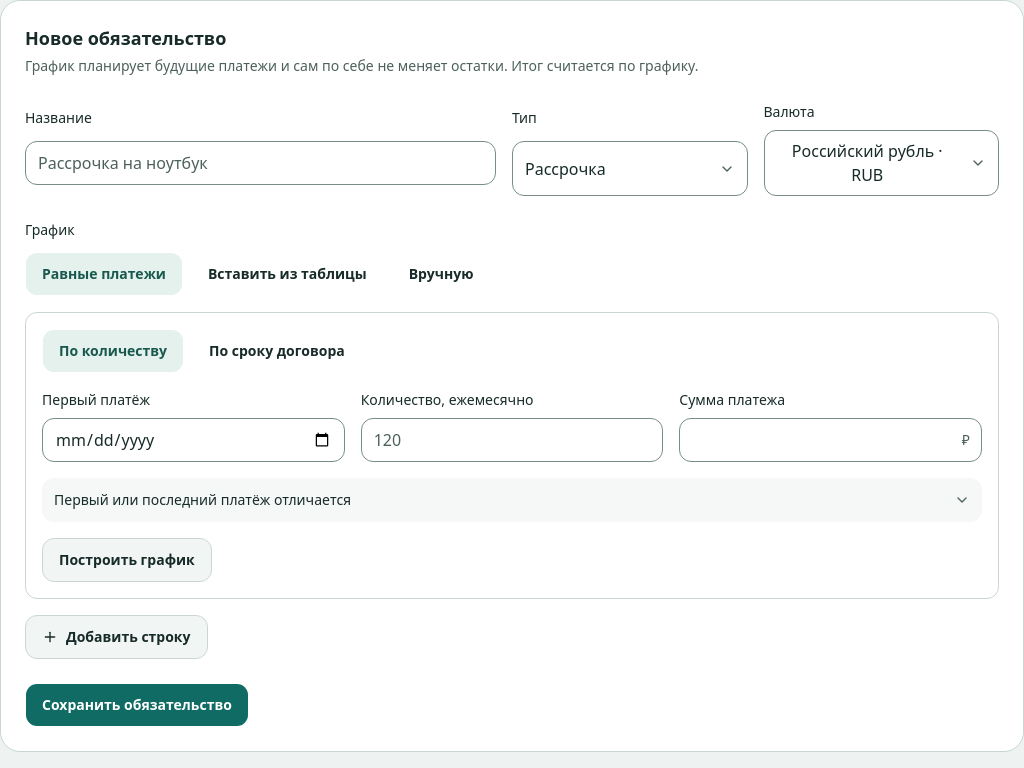
SPEC-0037 obligation with a long schedule › asks for at least one payment
The width and height of the screenshot is (1024, 768).
In the field labelled "Название": (260, 163) [25, 141, 496, 185], type "Рассрочка"
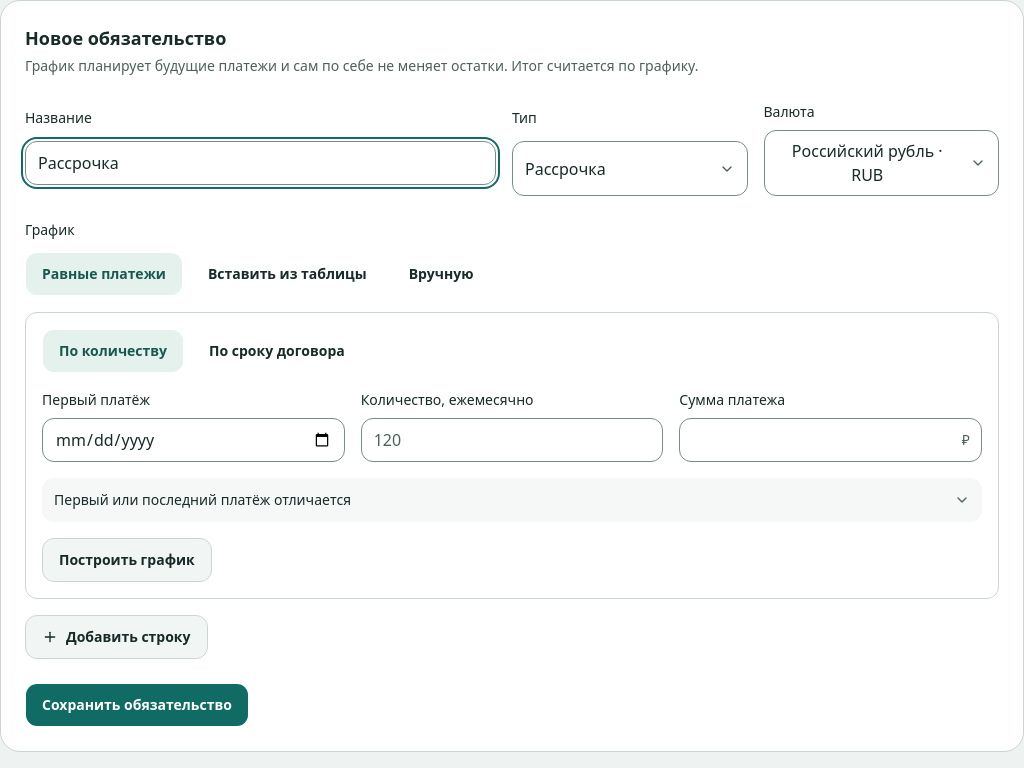
Click the button "Сохранить обязательство": (137, 705) [25, 683, 249, 727]
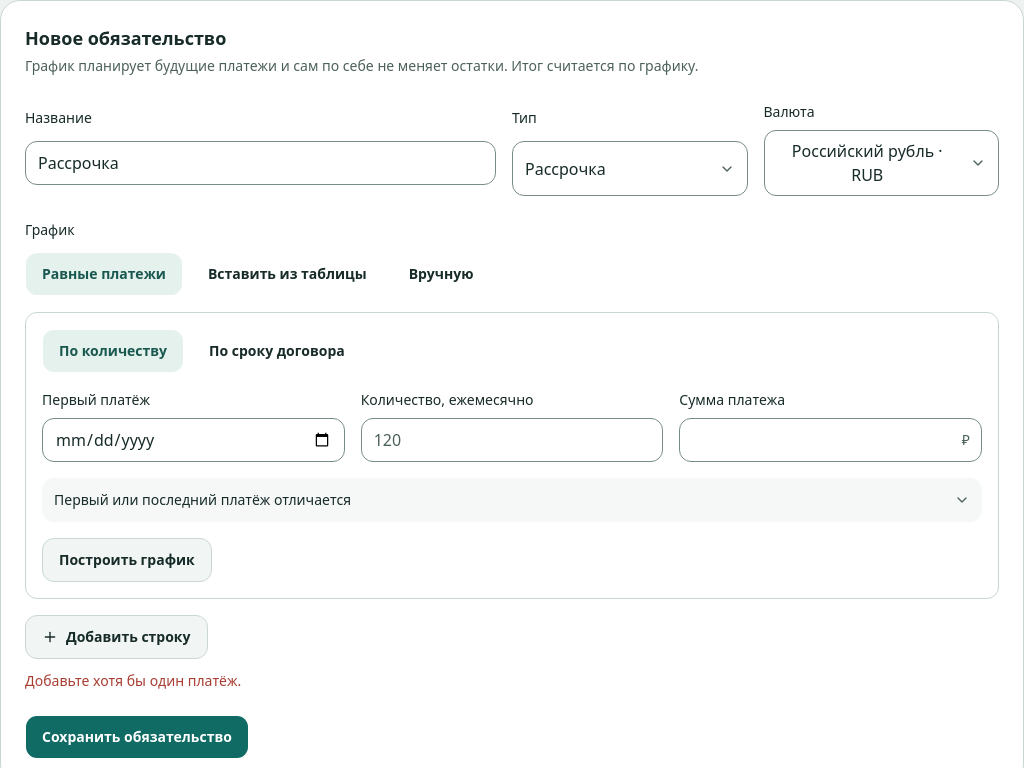
Check: the text "Добавьте хотя бы один платёж." is shown, box [25, 671, 241, 690]
